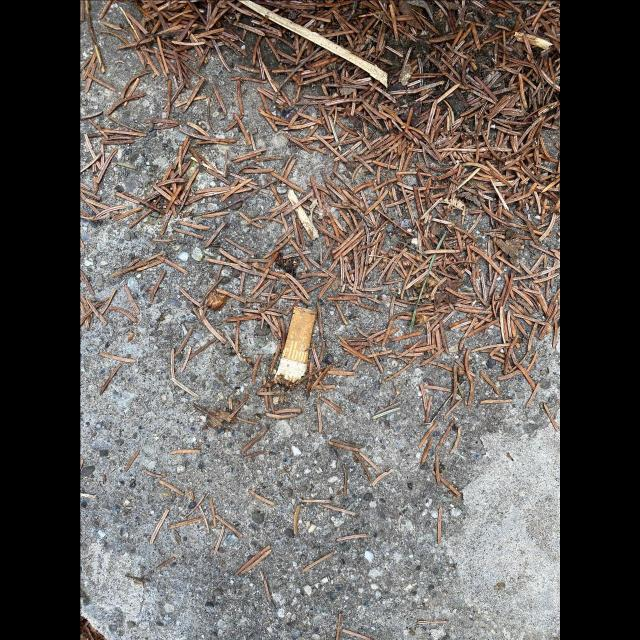cigarette: (274, 305, 318, 387)
